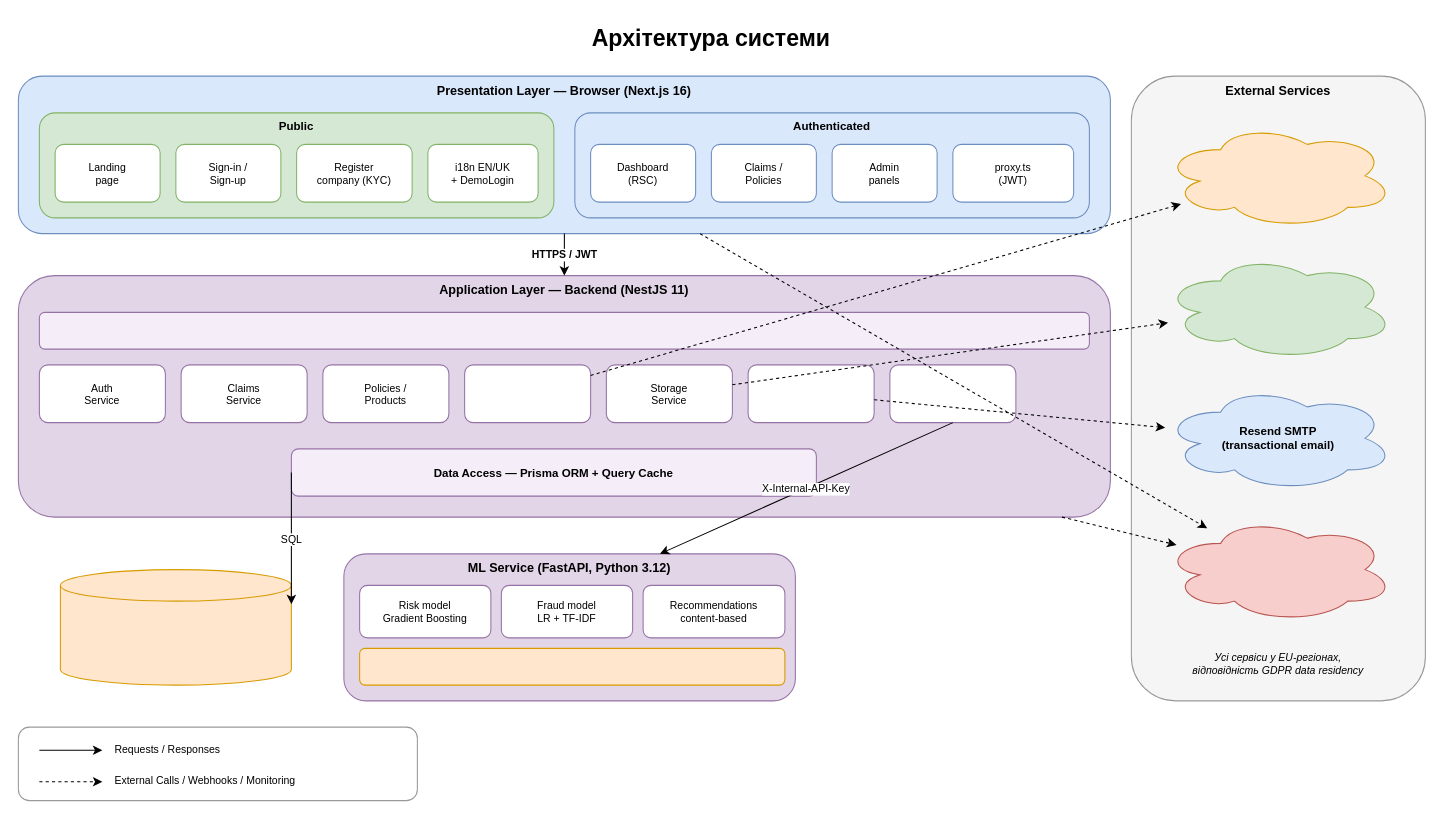
The diagram is 1444 pixels wide and 819 high, and some of its shapes have lost their labels. The centre of each missing label's shape, as x and y in pixels:
Cloudflare R2 (object storage): (1278,307)
Cross-cutting: Guards (JWT + Roles) • Throttler • Audit Log • Validation Pipes: (563,330)
Email (async): (810,393)
MlClient Service: (952,393)
Payments (Stripe): (527,393)
PostgreSQL 15 (Railway, EU West): (175,627)
Sentry (error monitoring): (1278,569)
SHAP Explainer + X-Internal-API-Key: (572,666)
Stripe (Test Mode): (1278,175)
